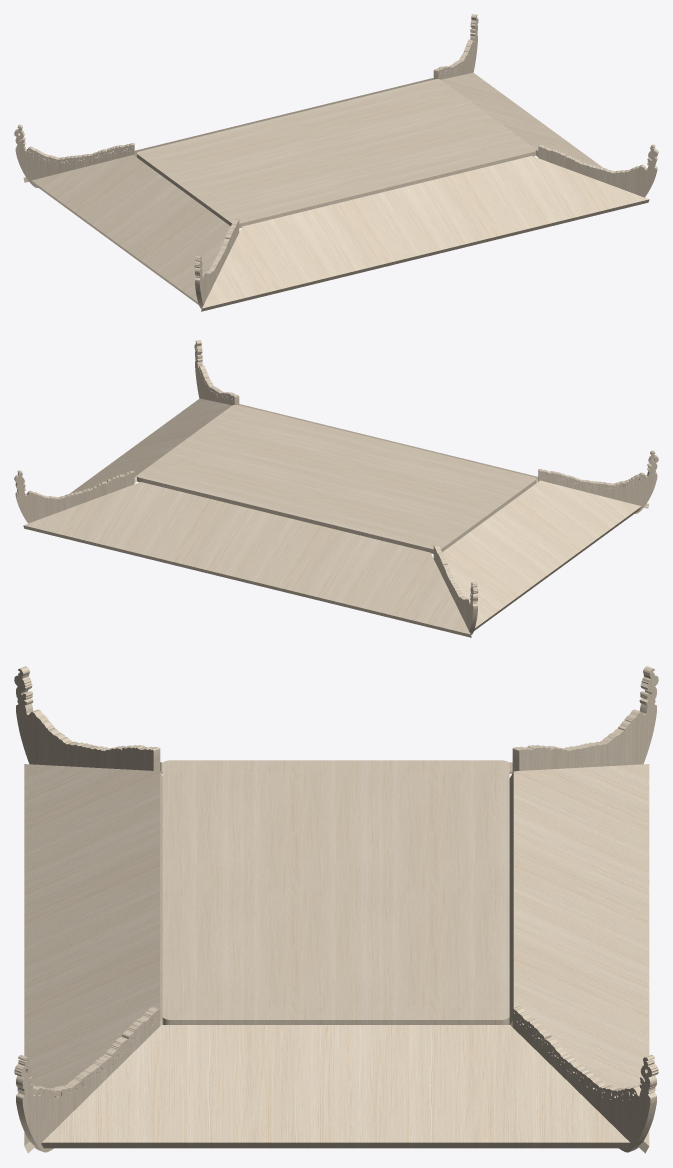
The picture shows the model from 3 angles, top to bottom: view 1: azimuth 30°, elevation 25°; view 2: azimuth 150°, elevation 25°; view 3: azimuth 270°, elevation 25°; orthographic projection. The views are drawn at different scales.
Parts seen in each view (by area): view 1: Mesh6 Block_681_6_1 ___3_1 Model, Mesh2 ___334_1 ___3_1 Model, Mesh9 ___333_2 Model, Mesh1 ___333_1 ___3_1 Model, Mesh3 ___343_1 ___3_1 Model, Mesh4 ___343_2 ___3_1 Model, Mesh5 ___343_3 ___3_1 Model, Mesh7 ___343_4 ___3_1 Model, Mesh8 ___334_2 ___3_1 Model; view 2: Mesh6 Block_681_6_1 ___3_1 Model, Mesh8 ___334_2 ___3_1 Model, Mesh9 ___333_2 Model, Mesh1 ___333_1 ___3_1 Model, Mesh7 ___343_4 ___3_1 Model, Mesh5 ___343_3 ___3_1 Model, Mesh3 ___343_1 ___3_1 Model, Mesh4 ___343_2 ___3_1 Model, Mesh2 ___334_1 ___3_1 Model; view 3: Mesh6 Block_681_6_1 ___3_1 Model, Mesh1 ___333_1 ___3_1 Model, Mesh8 ___334_2 ___3_1 Model, Mesh2 ___334_1 ___3_1 Model, Mesh7 ___343_4 ___3_1 Model, Mesh4 ___343_2 ___3_1 Model, Mesh3 ___343_1 ___3_1 Model, Mesh5 ___343_3 ___3_1 Model.
Boxes of the visible parts, box(x1,y1,x2,y2) form: Mesh6 Block_681_6_1 ___3_1 Model: box(136, 79, 536, 228); Mesh2 ___334_1 ___3_1 Model: box(201, 156, 649, 311); Mesh9 ___333_2 Model: box(31, 155, 230, 304); Mesh1 ___333_1 ___3_1 Model: box(441, 72, 603, 168); Mesh3 ___343_1 ___3_1 Model: box(14, 124, 134, 187); Mesh4 ___343_2 ___3_1 Model: box(538, 144, 658, 197); Mesh5 ___343_3 ___3_1 Model: box(194, 219, 239, 308); Mesh7 ___343_4 ___3_1 Model: box(433, 14, 478, 79); Mesh8 ___334_2 ___3_1 Model: box(23, 78, 433, 182); Mesh6 Block_681_6_1 ___3_1 Model: box(137, 405, 536, 553); Mesh8 ___334_2 ___3_1 Model: box(23, 482, 471, 637); Mesh9 ___333_2 Model: box(442, 480, 641, 630); Mesh1 ___333_1 ___3_1 Model: box(69, 398, 231, 494); Mesh7 ___343_4 ___3_1 Model: box(14, 470, 134, 523); Mesh5 ___343_3 ___3_1 Model: box(538, 450, 658, 513); Mesh3 ___343_1 ___3_1 Model: box(433, 545, 478, 634); Mesh4 ___343_2 ___3_1 Model: box(194, 340, 239, 405); Mesh2 ___334_1 ___3_1 Model: box(239, 404, 649, 508); Mesh6 Block_681_6_1 ___3_1 Model: box(162, 760, 509, 1024); Mesh1 ___333_1 ___3_1 Model: box(41, 1025, 630, 1148); Mesh8 ___334_2 ___3_1 Model: box(509, 764, 649, 1153); Mesh2 ___334_1 ___3_1 Model: box(24, 764, 162, 1153); Mesh7 ___343_4 ___3_1 Model: box(512, 1006, 658, 1152); Mesh4 ___343_2 ___3_1 Model: box(14, 1006, 160, 1152); Mesh3 ___343_1 ___3_1 Model: box(512, 666, 658, 772); Mesh5 ___343_3 ___3_1 Model: box(14, 666, 160, 771).
Bounding box in the file's own units: 212 × 26.07 × 145.
1 material, 1 textured.
